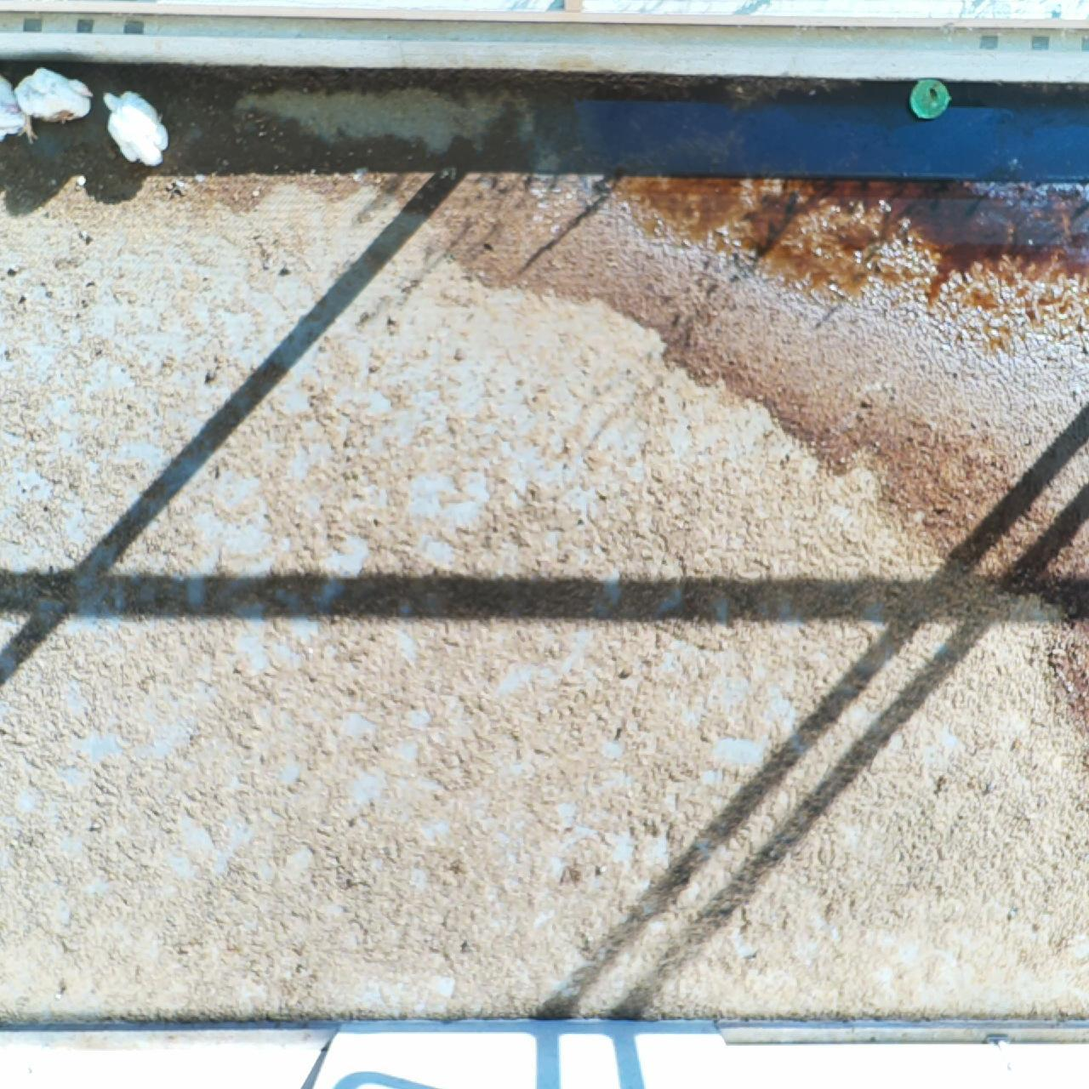chicken: (103, 87, 168, 166), (16, 65, 94, 124), (1, 75, 43, 140)
